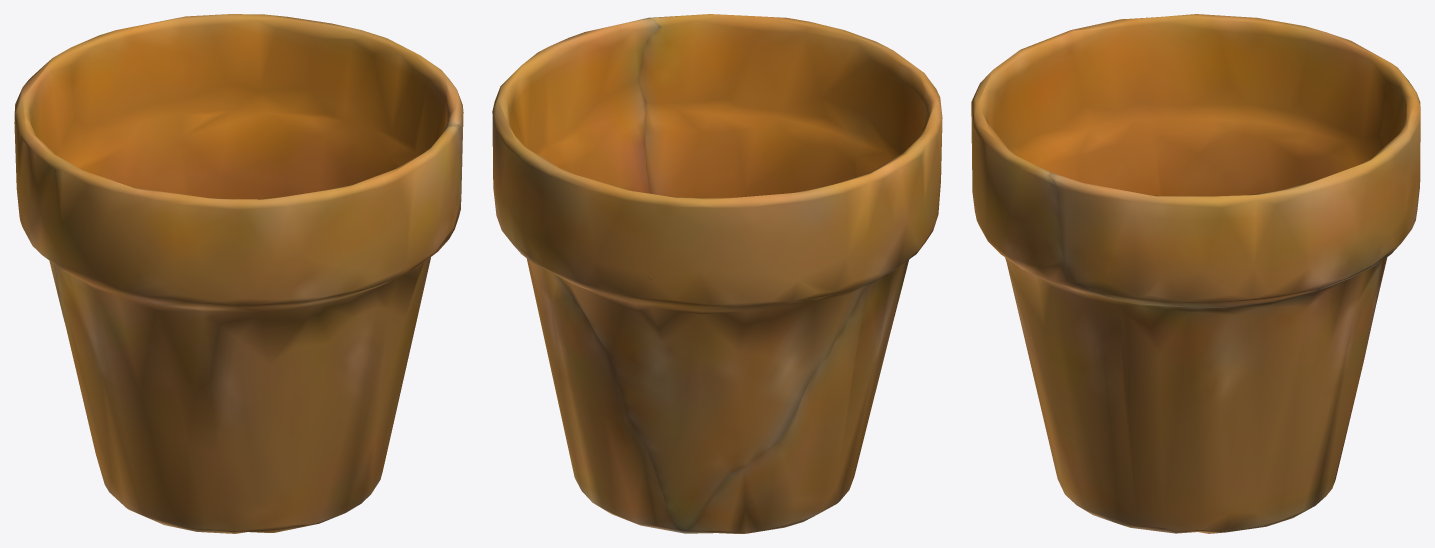
File: Cole_Hardware_Electric_Pot_Cabana_55-medium.glb
3 views of the same model, side by side, from view 1: azimuth 30°, elevation 25°; view 2: azimuth 150°, elevation 25°; view 3: azimuth 270°, elevation 25° (orthographic).
Parts seen in each view (by area): view 1: Cole_Hardware_Electric_Pot_Cabana_55; view 2: Cole_Hardware_Electric_Pot_Cabana_55; view 3: Cole_Hardware_Electric_Pot_Cabana_55.
Boxes of the visible parts, x1=… form: Cole_Hardware_Electric_Pot_Cabana_55: x1=14, y1=14, x2=463, y2=533; Cole_Hardware_Electric_Pot_Cabana_55: x1=492, y1=14, x2=942, y2=533; Cole_Hardware_Electric_Pot_Cabana_55: x1=971, y1=14, x2=1420, y2=533.
Bounding box in the file's own units: 0.1413 × 0.1299 × 0.1413.
1 material, 1 textured.
